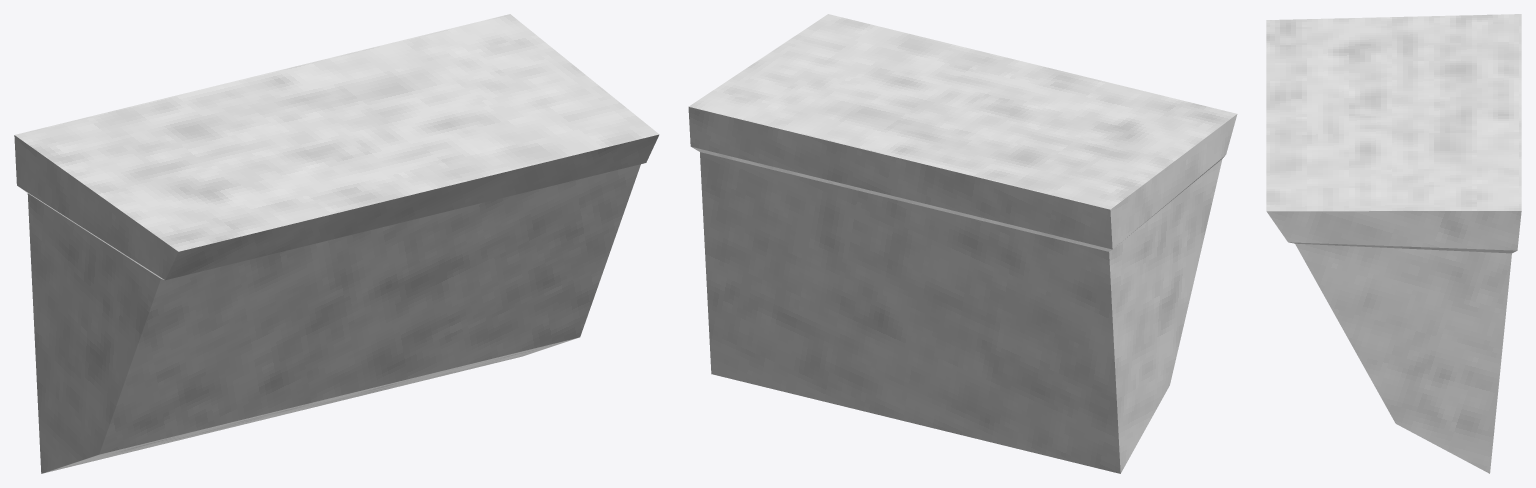
File: small_table.glb
3 views of the same model, side by side, from view 1: azimuth 30°, elevation 25°; view 2: azimuth 150°, elevation 25°; view 3: azimuth 270°, elevation 25° (orthographic). The views are drawn at different scales.
Parts seen in each view (by area): view 1: Small Table; view 2: Small Table; view 3: Small Table.
Part boxes in pixels (left/top/right/bottom): Small Table: left=14, top=14, right=659, bottom=473; Small Table: left=688, top=14, right=1237, bottom=473; Small Table: left=1266, top=14, right=1521, bottom=473.
Bounding box in the file's own units: 2.1 × 1.32 × 1.15.
Materials: 1 (1 with a texture image).
